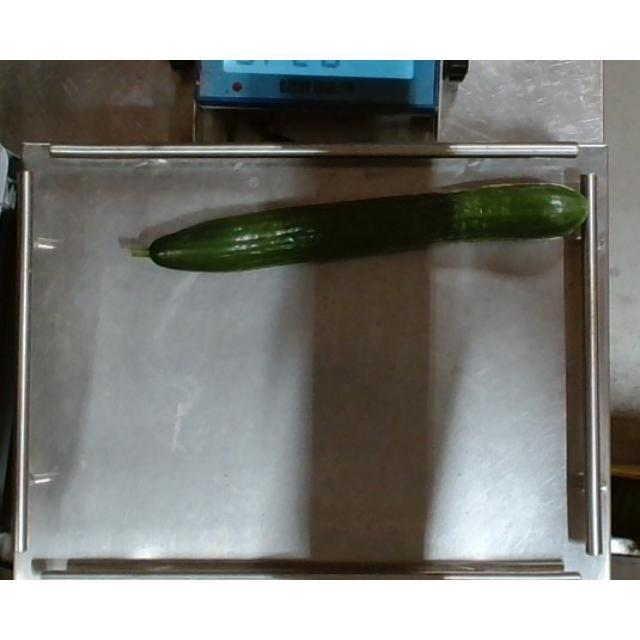cucumber: (127, 178, 591, 276)
